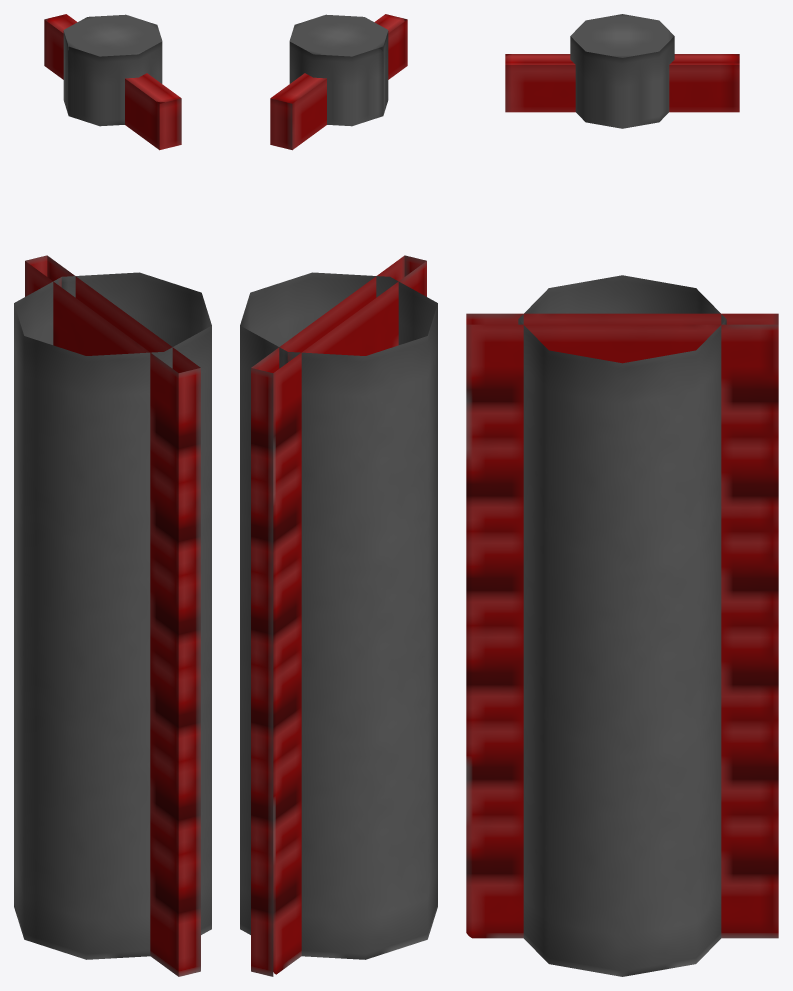
File: acidizer_spinner.obj
3 views of the same model, side by side, from view 1: azimuth 30°, elevation 25°; view 2: azimuth 150°, elevation 25°; view 3: azimuth 270°, elevation 25° (orthographic).
Parts seen in each view (by area): view 1: Spinner; view 2: Spinner; view 3: Spinner.
Part boxes in pixels (box(x1,y1,x2,y2)): Spinner: box(14, 14, 211, 976); Spinner: box(240, 14, 437, 976); Spinner: box(466, 14, 778, 976).
Size of the model in its own units: 1 by 4.75 by 1.5.
